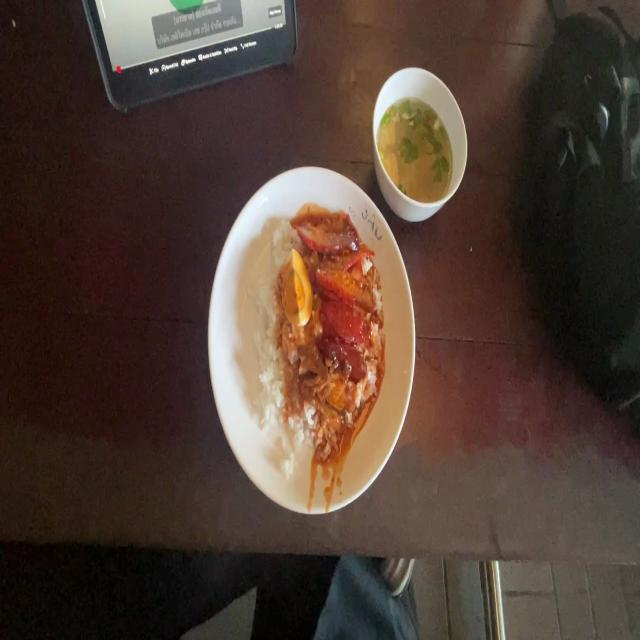01boiled_egg: (287, 254, 310, 319)
01chainese_sausage: (324, 302, 371, 374), (328, 302, 370, 340), (328, 338, 369, 372)
01crispy_pork: (305, 369, 355, 417)
01red_pork: (309, 218, 375, 303)
01red_pork_and_crispy_pork: (254, 215, 380, 453)
01rice: (257, 262, 282, 420), (266, 213, 298, 266), (275, 417, 304, 463)
